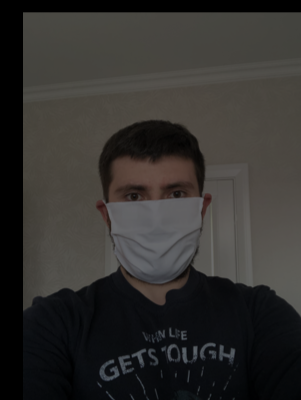with_mask: (104, 171, 202, 284)
